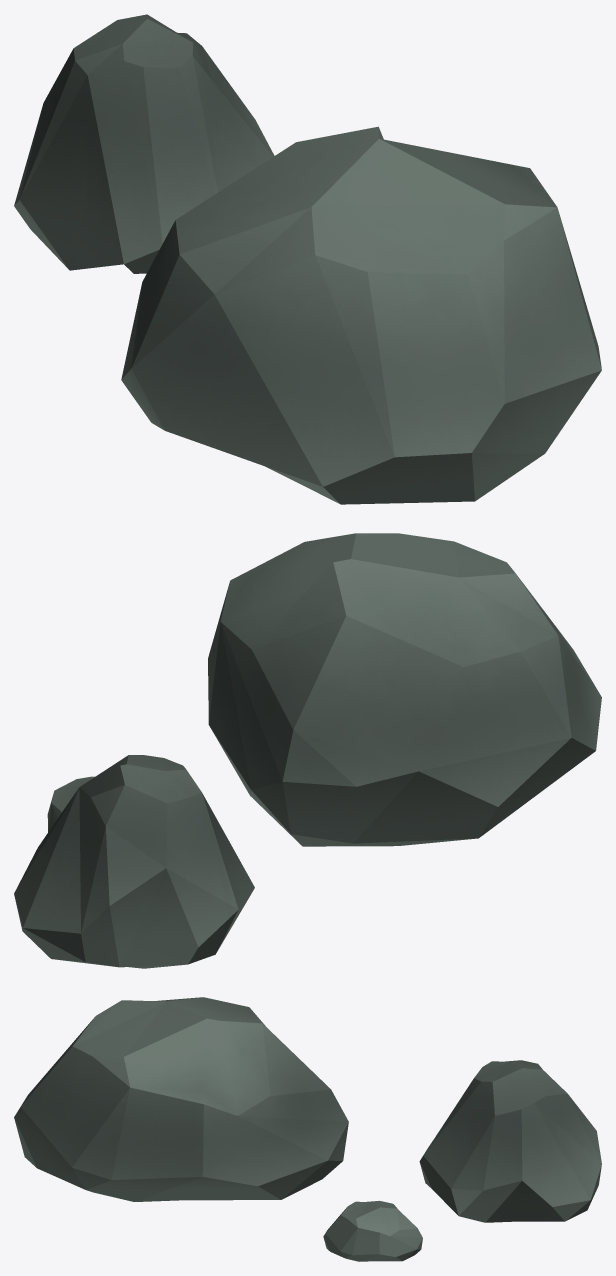
The model's file is pebbles 2.fbx.
3 views of the same model, one above another, from view 1: azimuth 30°, elevation 25°; view 2: azimuth 150°, elevation 25°; view 3: azimuth 270°, elevation 25° (orthographic). The views are drawn at different scales.
Visible parts, largest first — view 1: Pebbles 2 EXP; view 2: Pebbles 2 EXP; view 3: Pebbles 2 EXP.
Part boxes in pixels (bbox=[...]): Pebbles 2 EXP: bbox=[14, 14, 601, 504]; Pebbles 2 EXP: bbox=[14, 533, 601, 968]; Pebbles 2 EXP: bbox=[14, 997, 601, 1261].
Size of the model in its own units: 95.29 by 56.64 by 159.
1 material, 1 textured.
